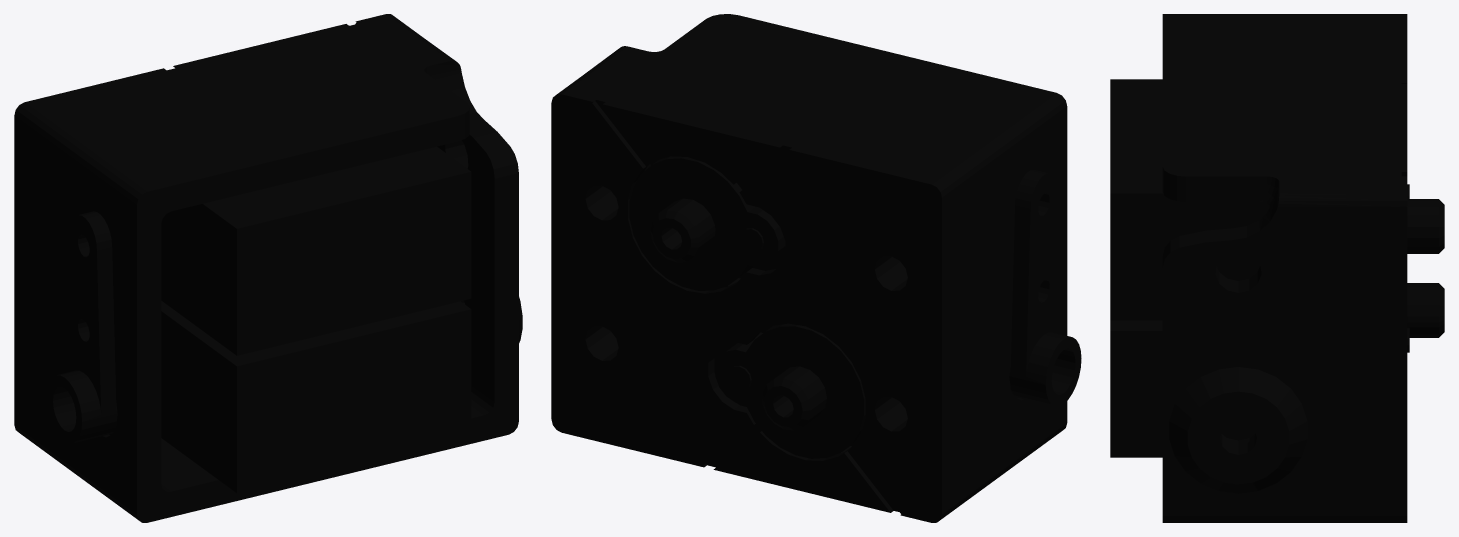
The model's file is lf1_black.dae.
3 views of the same model, side by side, from view 1: azimuth 30°, elevation 25°; view 2: azimuth 150°, elevation 25°; view 3: azimuth 270°, elevation 25° (orthographic). The views are drawn at different scales.
Parts seen in each view (by area): view 1: lf1; view 2: lf1; view 3: lf1.
Boxes of the visible parts, x1,y1,x2,y2 form: lf1: (14,14,522,522); lf1: (551,14,1081,522); lf1: (1110,14,1444,522).
Size of the model in its own units: 0.0428 by 0.0287 by 0.0313.
Materials: 1 (1 with a texture image).
